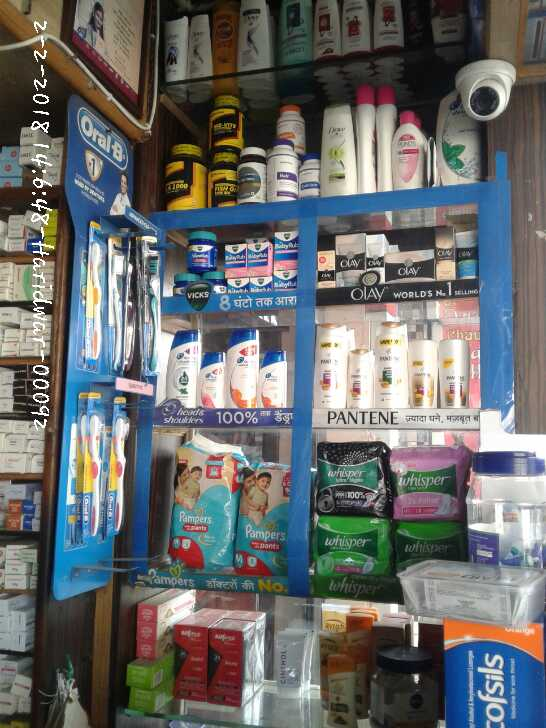oralcare: (51, 104, 161, 591)
vicks: (171, 220, 301, 301)
